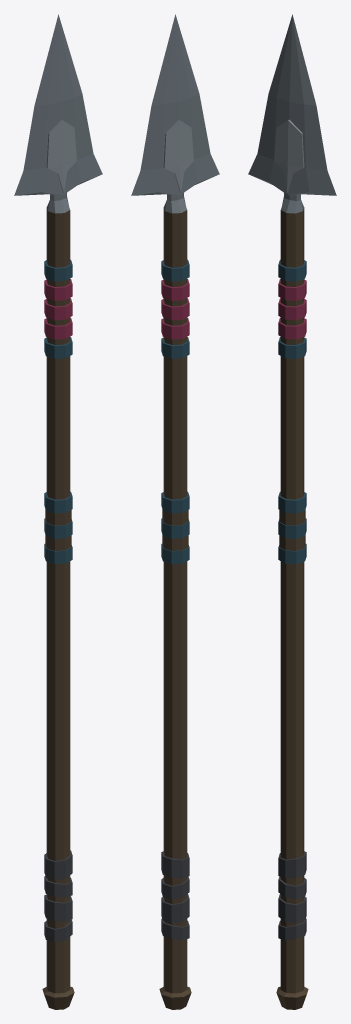
File: Pike.glb
The picture shows the model from 3 angles, left to right: view 1: azimuth 30°, elevation 25°; view 2: azimuth 210°, elevation 25°; view 3: azimuth 330°, elevation 25°; orthographic projection.
Visible parts, largest first — view 1: Pike; view 2: Pike; view 3: Pike.
Boxes of the visible parts, x1,y1,x2,y2 form: Pike: (14,14,102,1009); Pike: (131,14,219,1009); Pike: (248,14,336,1009).
Bounding box in the file's own units: 0.1582 × 1.69 × 0.0515.
Materials: 1 (1 with a texture image).
